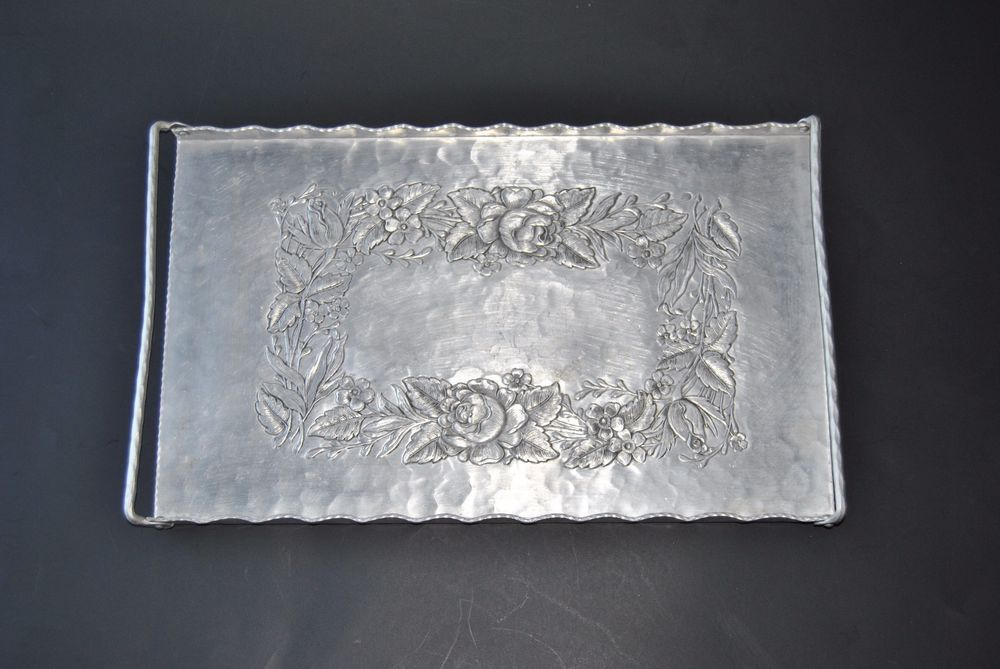metal: (119, 107, 850, 533)
